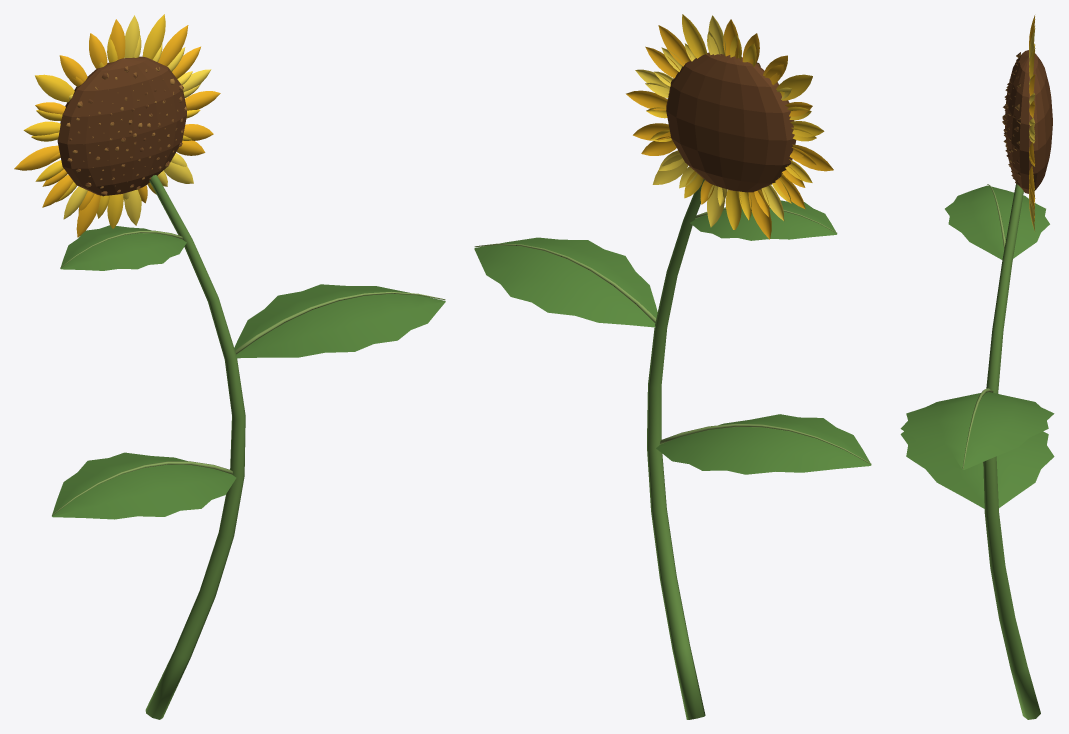
The model's file is sunflower-test-bloom-3-2.glb.
3 renders of one model, left to right at view 1: azimuth 30°, elevation 25°; view 2: azimuth 150°, elevation 25°; view 3: azimuth 270°, elevation 25°, orthographic. The views are drawn at different scales.
Visible parts, largest first — view 1: Curved tapered stem; view 2: Curved tapered stem; view 3: Curved tapered stem.
Part boxes in pixels (x1=…): Curved tapered stem: x1=14, y1=14, x2=445, y2=719; Curved tapered stem: x1=474, y1=14, x2=871, y2=719; Curved tapered stem: x1=900, y1=15, x2=1054, y2=719.
Bounding box in the file's own units: 0.4157 × 0.7125 × 0.1462.
